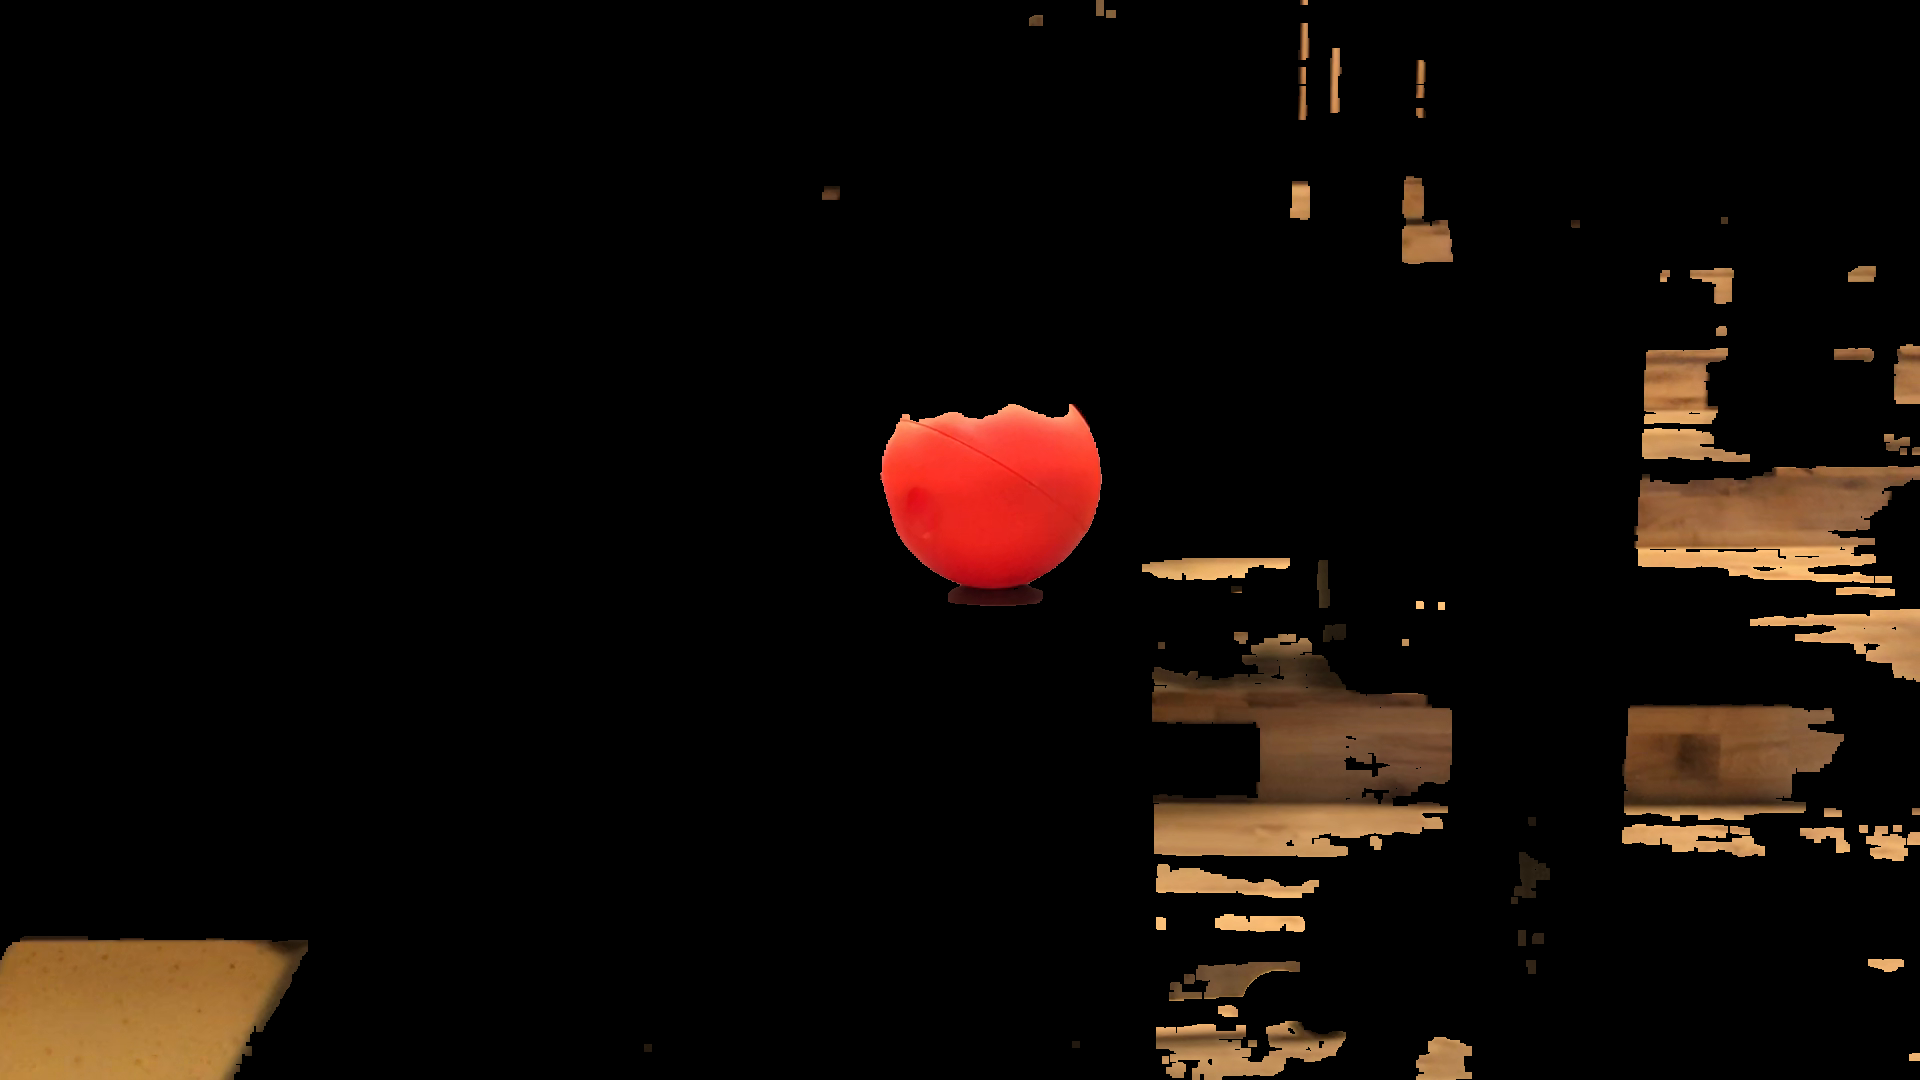Ball: (884, 369, 1100, 576)
